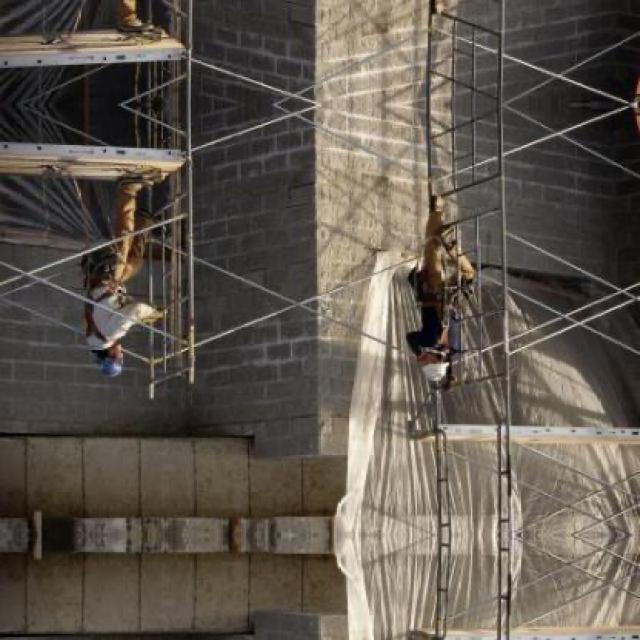con casco: (76, 340, 133, 391)
